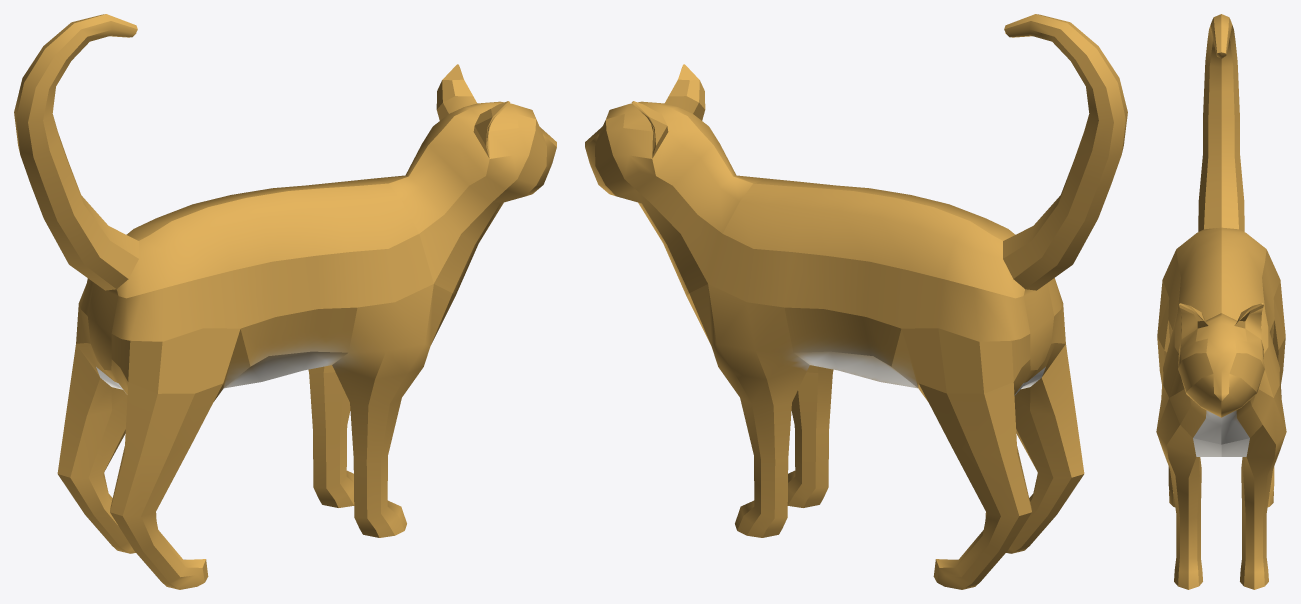
The model's file is obj_cat.fbx.
3 views of the same model, side by side, from view 1: azimuth 30°, elevation 25°; view 2: azimuth 150°, elevation 25°; view 3: azimuth 270°, elevation 25° (orthographic). The views are drawn at different scales.
Visible parts, largest first — view 1: obj_cat; view 2: obj_cat; view 3: obj_cat.
Part boxes in pixels (left/top/right/bottom): obj_cat: left=14, top=14, right=556, bottom=589; obj_cat: left=585, top=14, right=1127, bottom=589; obj_cat: left=1156, top=14, right=1286, bottom=589.
Size of the model in its own units: 0.6141 by 0.6114 by 0.1589.
Materials: 1 (1 with a texture image).
